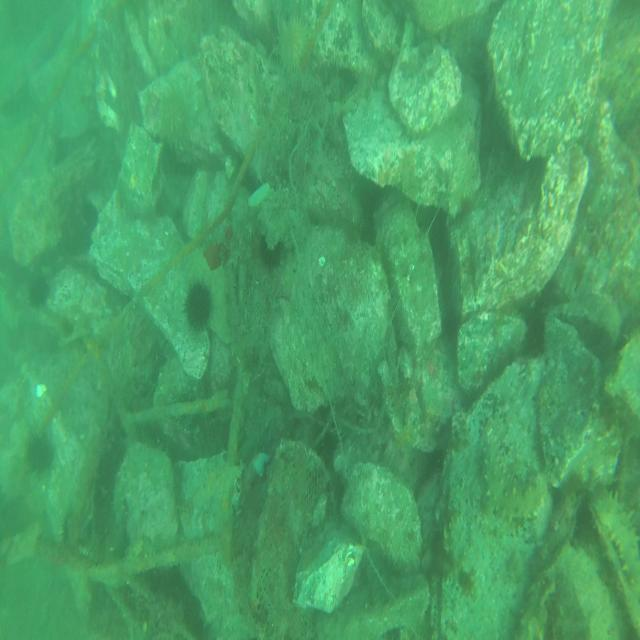echinus: (158, 88, 194, 150), (273, 13, 307, 71), (21, 428, 57, 472), (185, 276, 212, 328), (257, 228, 285, 272), (24, 270, 50, 309)
holothurian: (476, 445, 542, 524), (593, 490, 640, 591)
